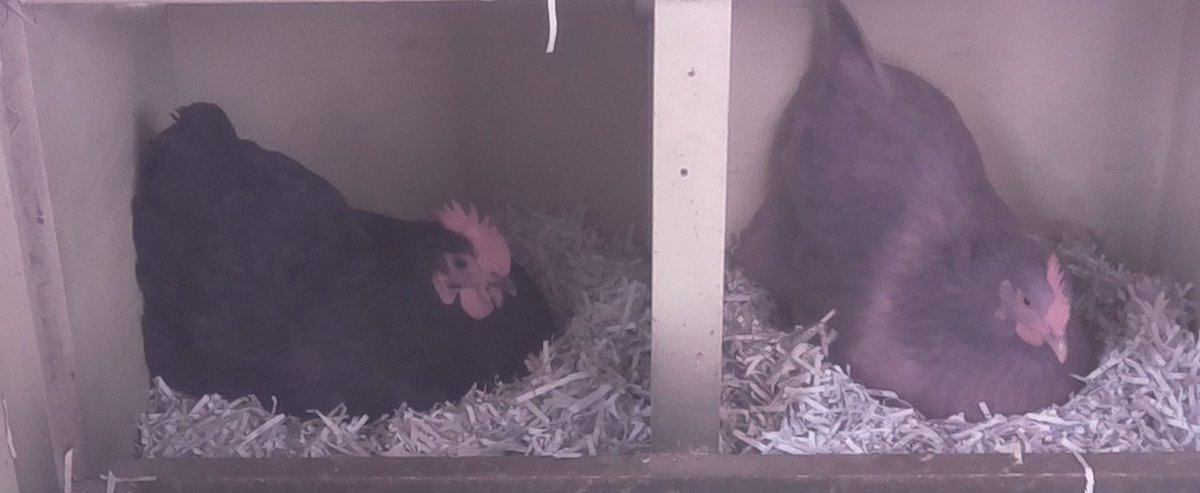hen: (752, 13, 1105, 420), (132, 118, 573, 430)
